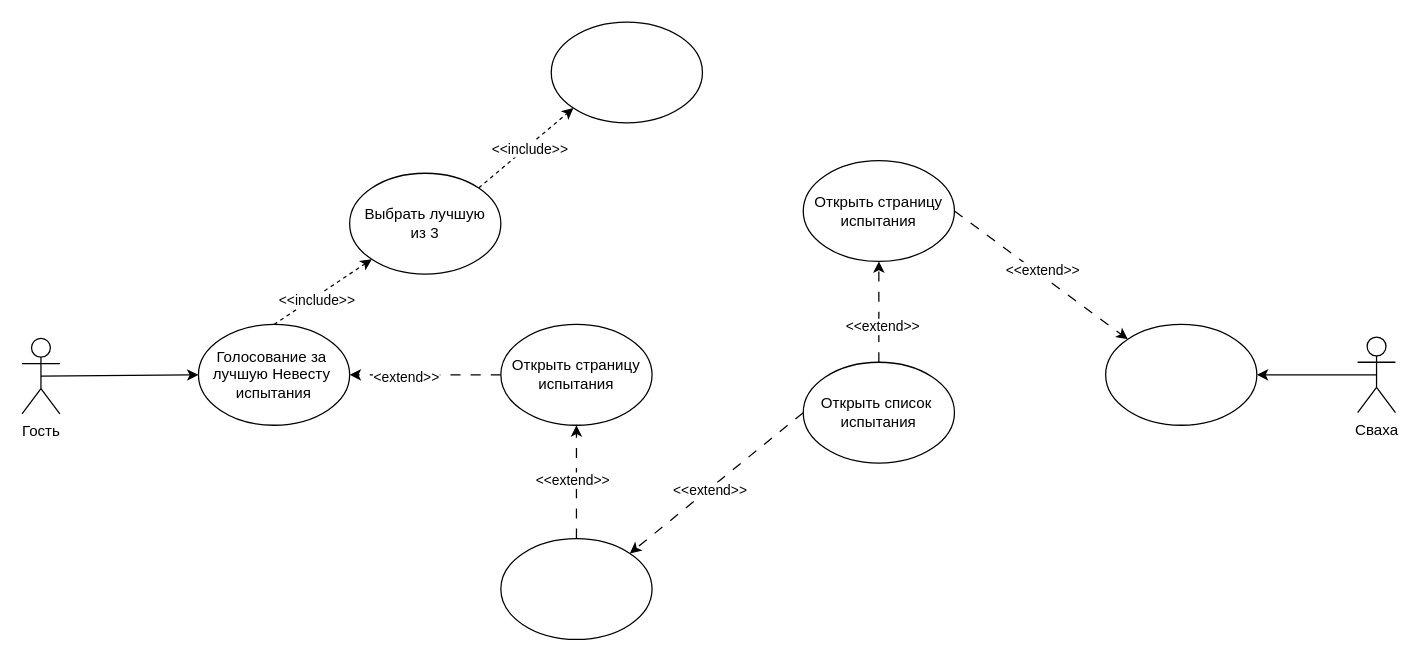
The diagram is 1420 pixels wide and 662 high, and some of its shapes have lost their labels. Each missing label, with the box of its shape:
Найти испытания, с открытым голосованием: (500, 537, 652, 639)
Ознакомится с отчётами: (550, 21, 702, 123)
Перевести испытание в статус "Голосование": (1104, 323, 1257, 425)
